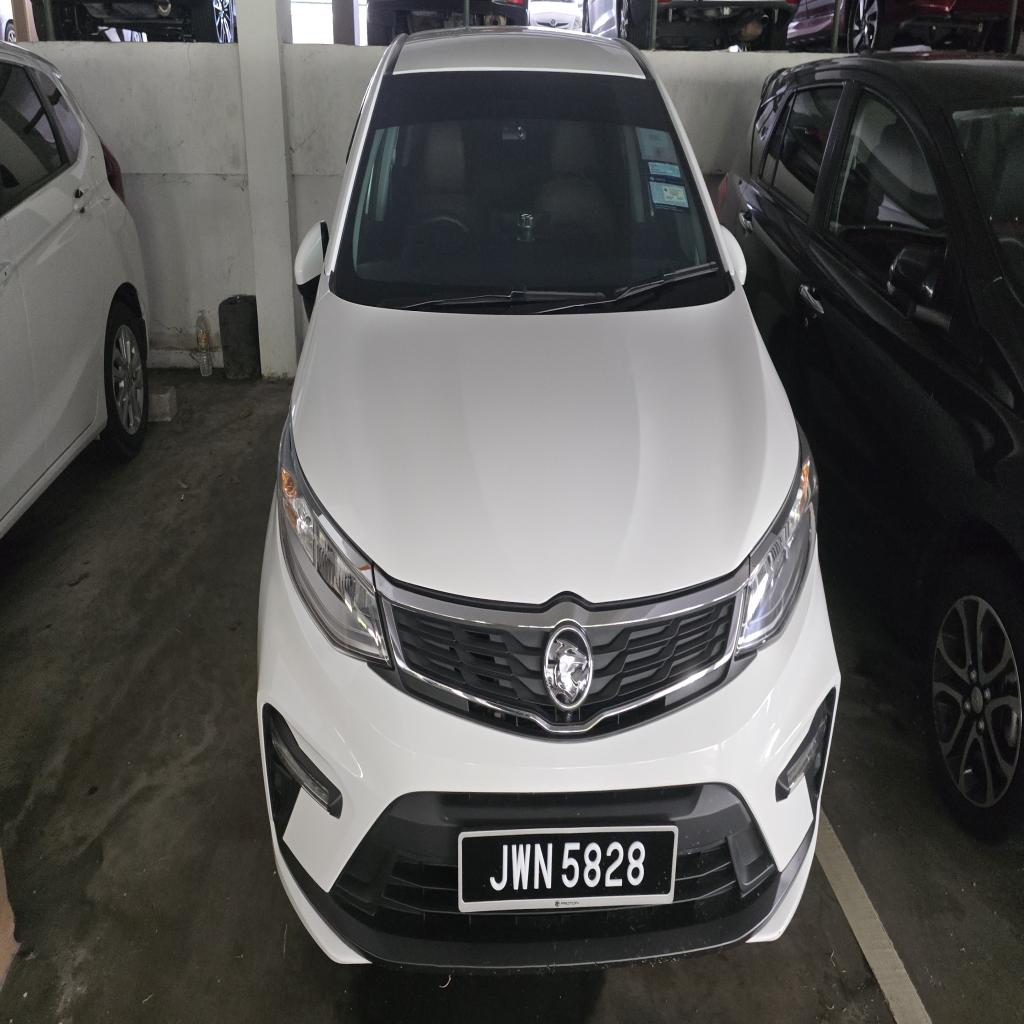car: (259, 30, 839, 969)
car plate: (459, 826, 677, 912)
